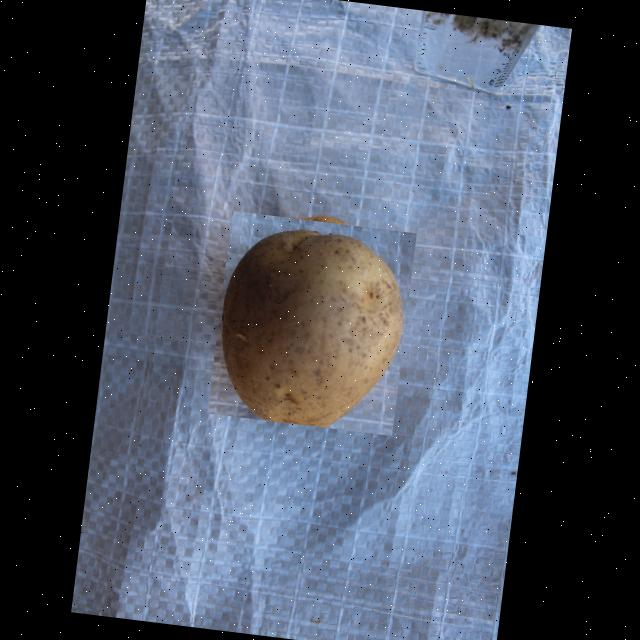Diseased-fungal potato: (206, 210, 415, 436)
